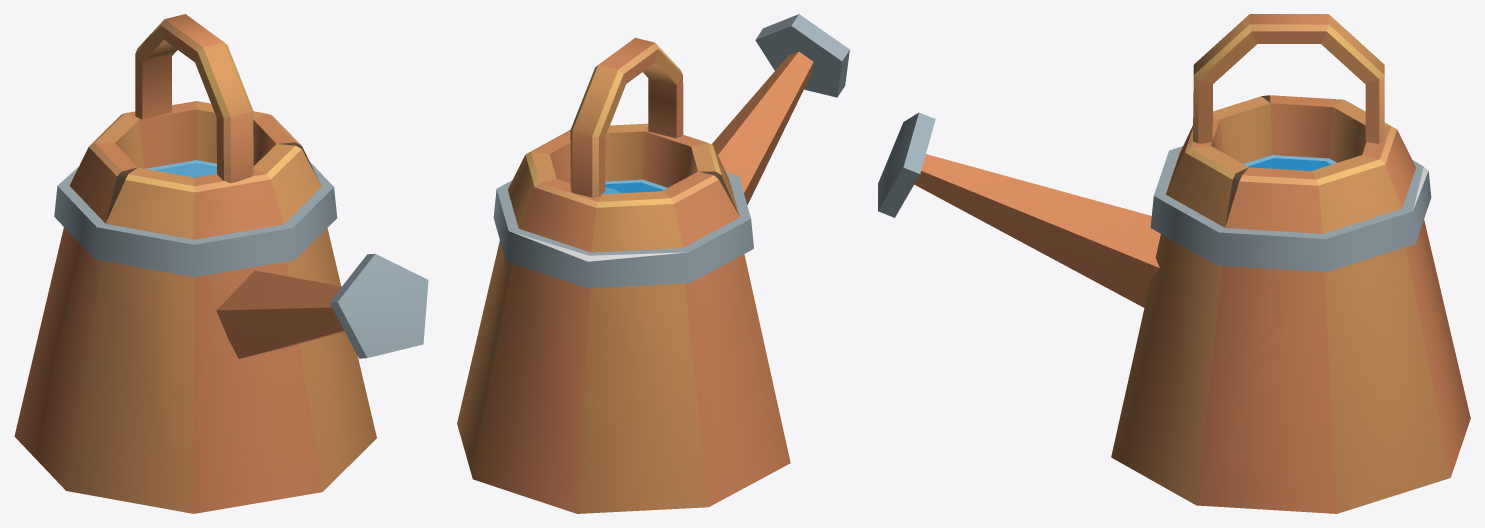
File: WaterCan.fbx
3 renders of one model, left to right at view 1: azimuth 30°, elevation 25°; view 2: azimuth 150°, elevation 25°; view 3: azimuth 270°, elevation 25°, orthographic. The views are drawn at different scales.
Parts seen in each view (by area): view 1: WaterCan; view 2: WaterCan; view 3: WaterCan.
Part boxes in pixels (x1,y1,x2,y2): WaterCan: (14, 14, 428, 513); WaterCan: (457, 14, 849, 513); WaterCan: (878, 14, 1470, 513).
Bounding box in the file's own units: 0.2758 × 0.3534 × 0.4545.
